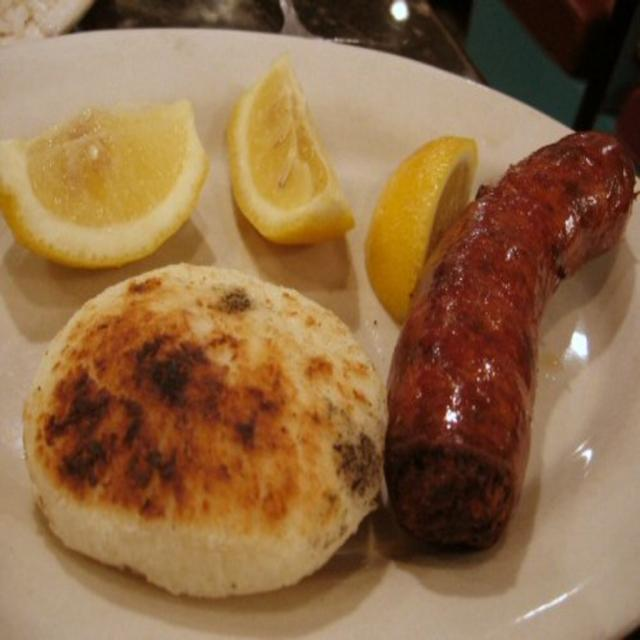Lemon: (0, 106, 214, 264), (224, 58, 356, 244), (370, 133, 480, 330)
